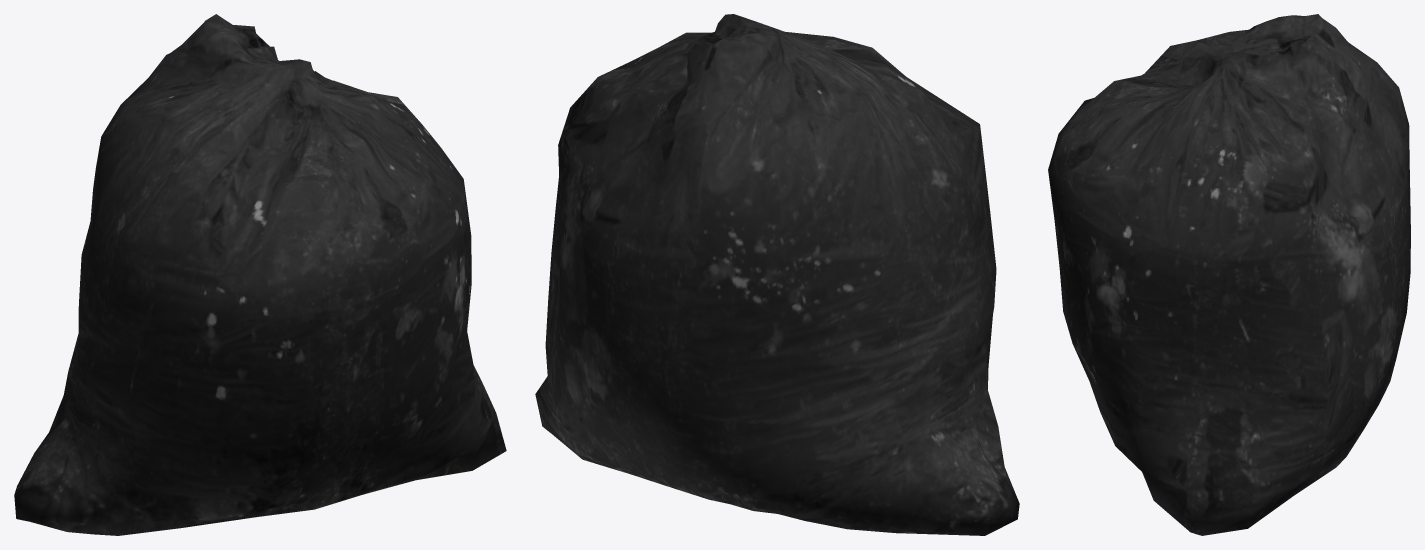
The model's file is trash_bag_2.fbx.
3 views of the same model, side by side, from view 1: azimuth 30°, elevation 25°; view 2: azimuth 150°, elevation 25°; view 3: azimuth 270°, elevation 25° (orthographic). The views are drawn at different scales.
Visible parts, largest first — view 1: trash_bag_2; view 2: trash_bag_2; view 3: trash_bag_2.
Boxes of the visible parts, x1,y1,x2,y2 form: trash_bag_2: [14, 14, 506, 535]; trash_bag_2: [535, 14, 1019, 535]; trash_bag_2: [1048, 14, 1410, 535].
Bounding box in the file's own units: 97.06 × 91.92 × 70.72.
